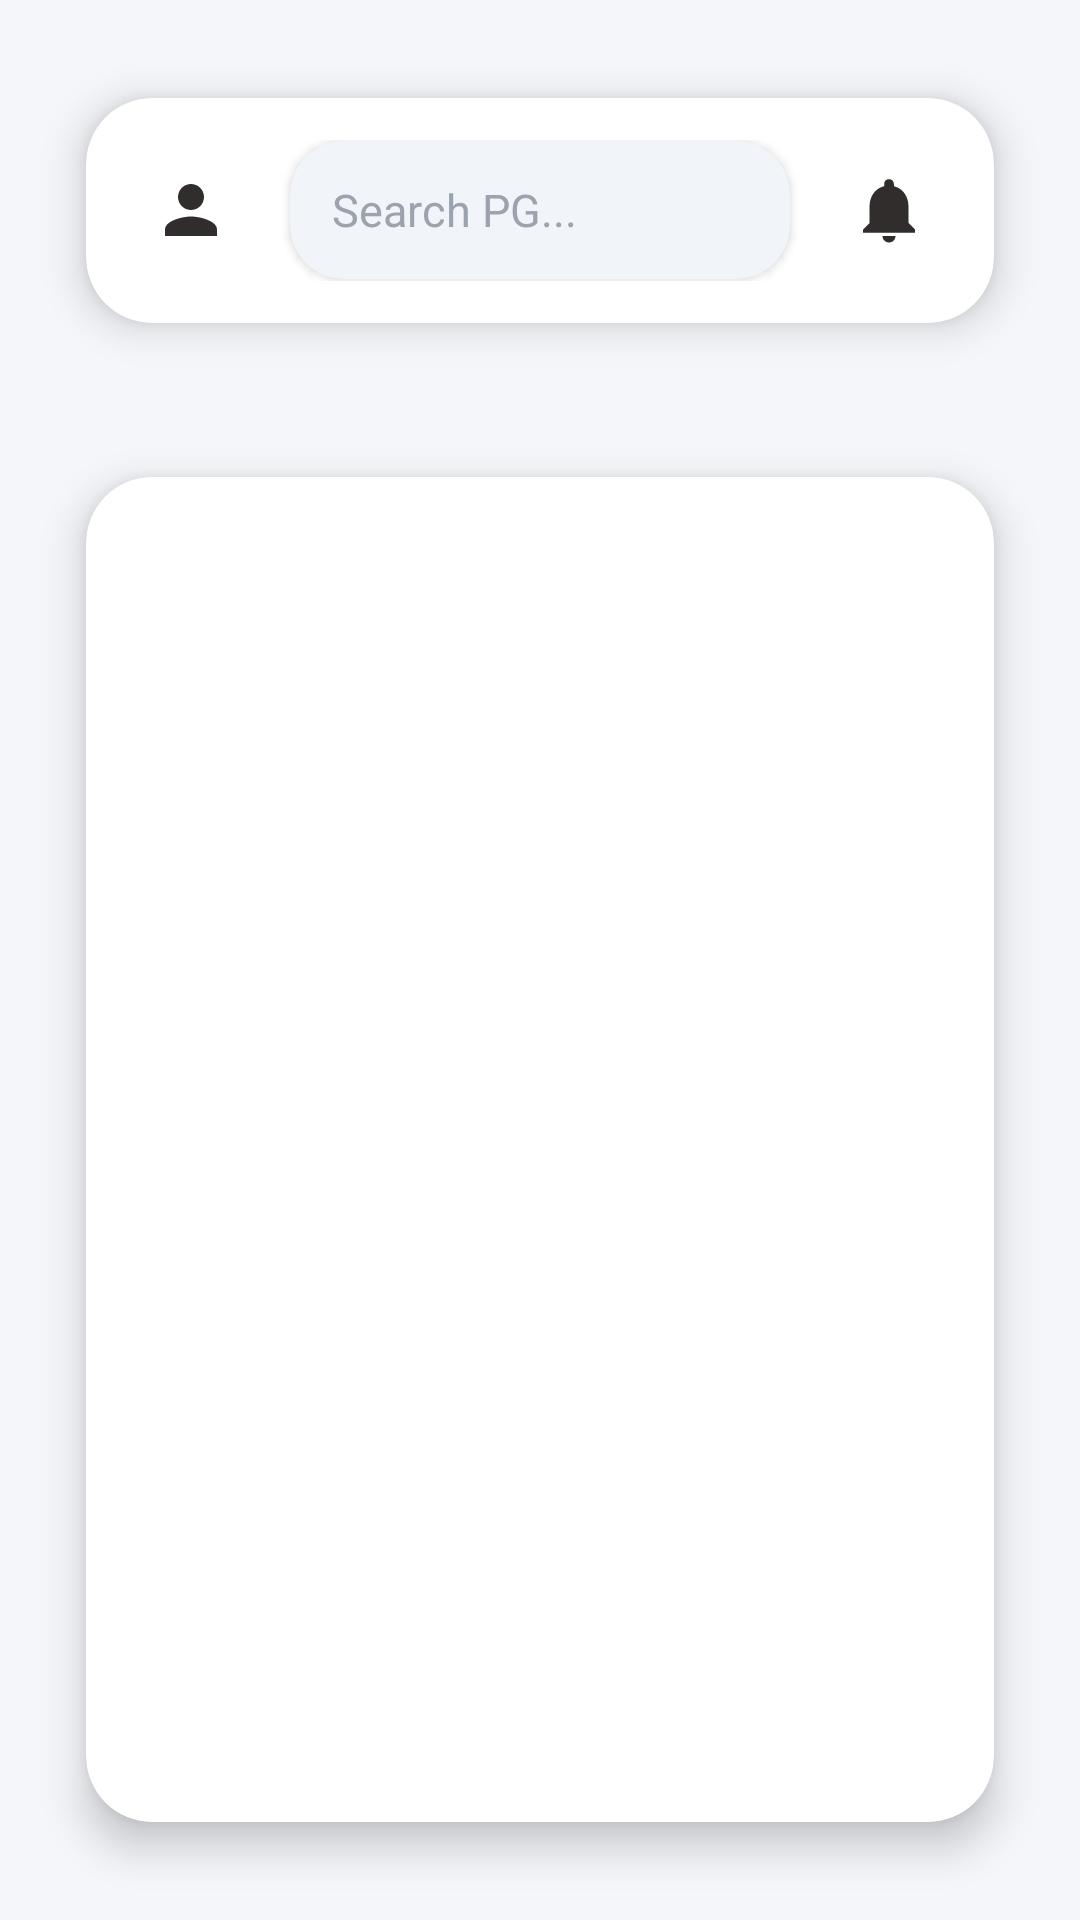

Point at icon controls on the screen. Image size 1080x1920, points as [x,y].
Notifications: [889,211]
person: [191,210]
